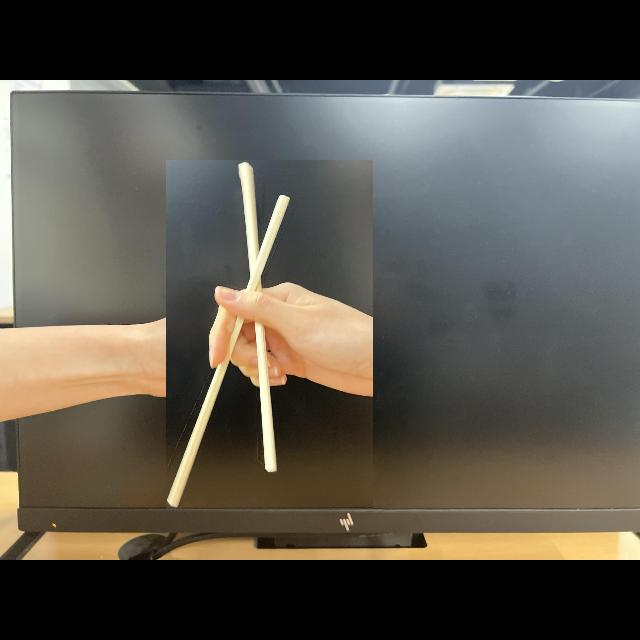stick: (166, 160, 372, 510)
